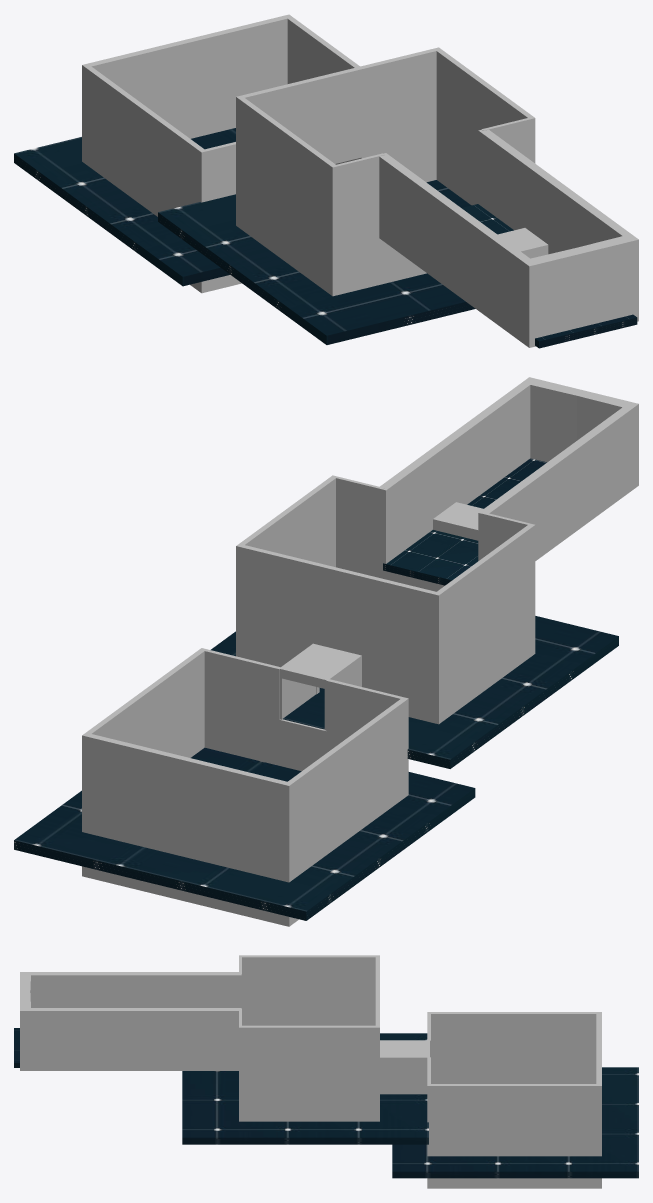
3 views of the same model, one above another, from view 1: azimuth 30°, elevation 25°; view 2: azimuth 150°, elevation 25°; view 3: azimuth 270°, elevation 25° (orthographic). The views are drawn at different scales.
Parts seen in each view (by area): view 1: 立方体.001, Start, 立方体.004, 立方体.002, 立方体.006, 立方体.003, 立方体; view 2: 立方体.004, 立方体.001, Start, 立方体.006, 立方体.002, 立方体.003, 立方体.005, 立方体; view 3: 立方体.004, 立方体.001, Start, 立方体.002, 立方体.006, 立方体.005.
Boxes of the visible parts, x1,y1,x2,y2 form: 立方体.001: (236,47,535,296); Start: (379,129,638,347); 立方体.004: (82,14,359,293); 立方体.002: (158,180,475,344); 立方体.006: (14,128,235,286); 立方体.003: (461,204,637,348); 立方体: (497,228,548,258); 立方体.004: (82,648,408,926); 立方体.001: (236,475,535,724); Start: (380,377,638,563); 立方体.006: (14,747,475,920); 立方体.002: (211,616,618,768); 立方体.003: (383,458,546,585); 立方体.005: (280,643,361,730); 立方体: (433,502,483,540); 立方体.004: (427,1012,601,1188); 立方体.001: (239,955,379,1121); Start: (20,972,241,1070); 立方体.002: (182,1033,428,1144); 立方体.006: (392,1067,638,1178); 立方体.005: (380,1040,429,1094).
Size of the model in its own units: 34.07 by 24.46 by 86.38.
